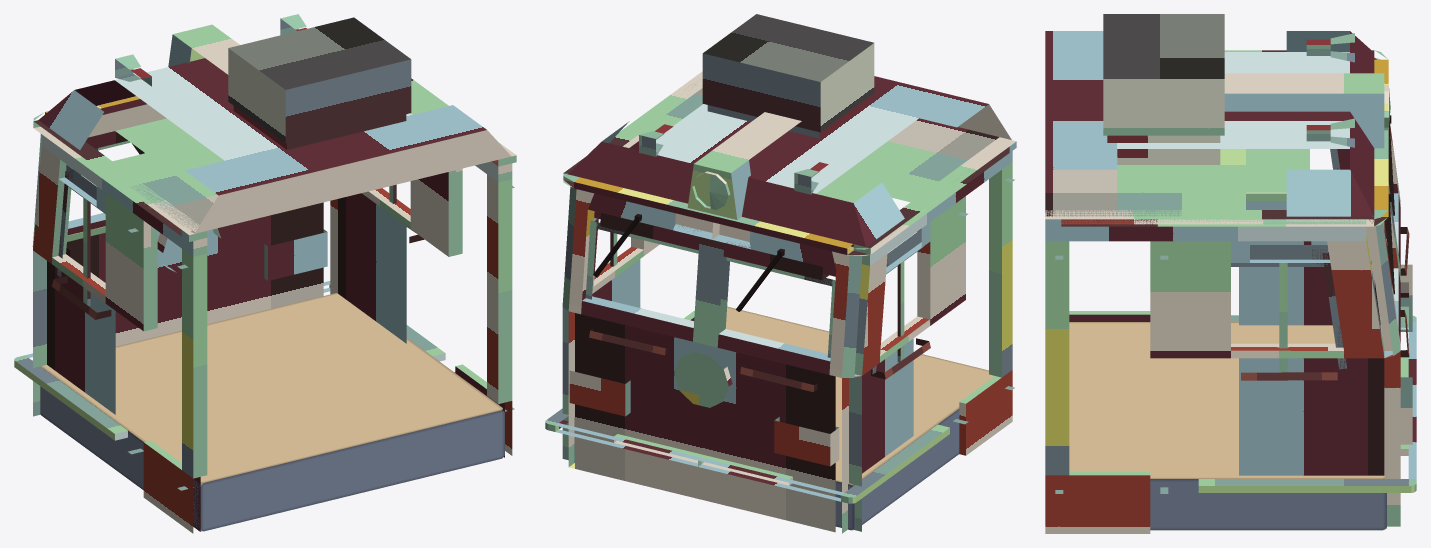
File: ss3_head_late.obj
3 renders of one model, left to right at view 1: azimuth 30°, elevation 25°; view 2: azimuth 150°, elevation 25°; view 3: azimuth 270°, elevation 25°, orthographic. The views are drawn at different scales.
Visible parts, largest first — view 1: 圆灯_selection_selection; view 2: 圆灯_selection_selection; view 3: 圆灯_selection_selection.
Boxes of the visible parts, x1,y1,x2,y2 form: 圆灯_selection_selection: [14, 14, 516, 533]; 圆灯_selection_selection: [545, 14, 1016, 533]; 圆灯_selection_selection: [1045, 14, 1416, 533].
Bounding box in the file's own units: 3.16 × 3.56 × 2.88.
